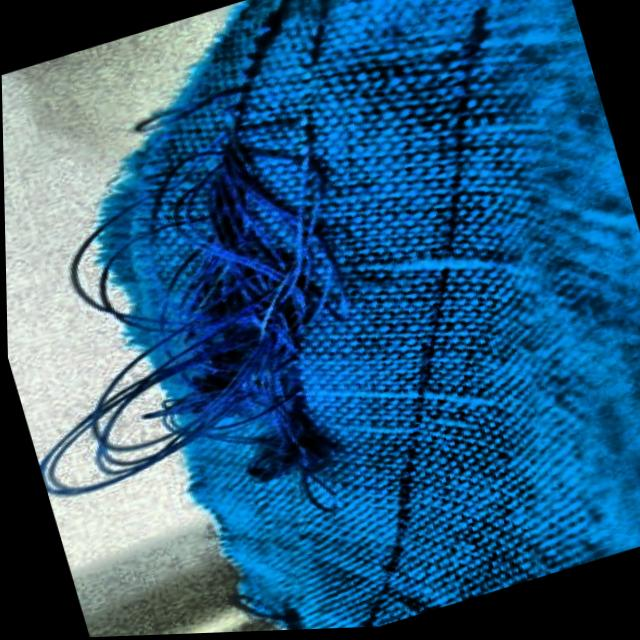Stitch: (1, 29, 474, 592)
